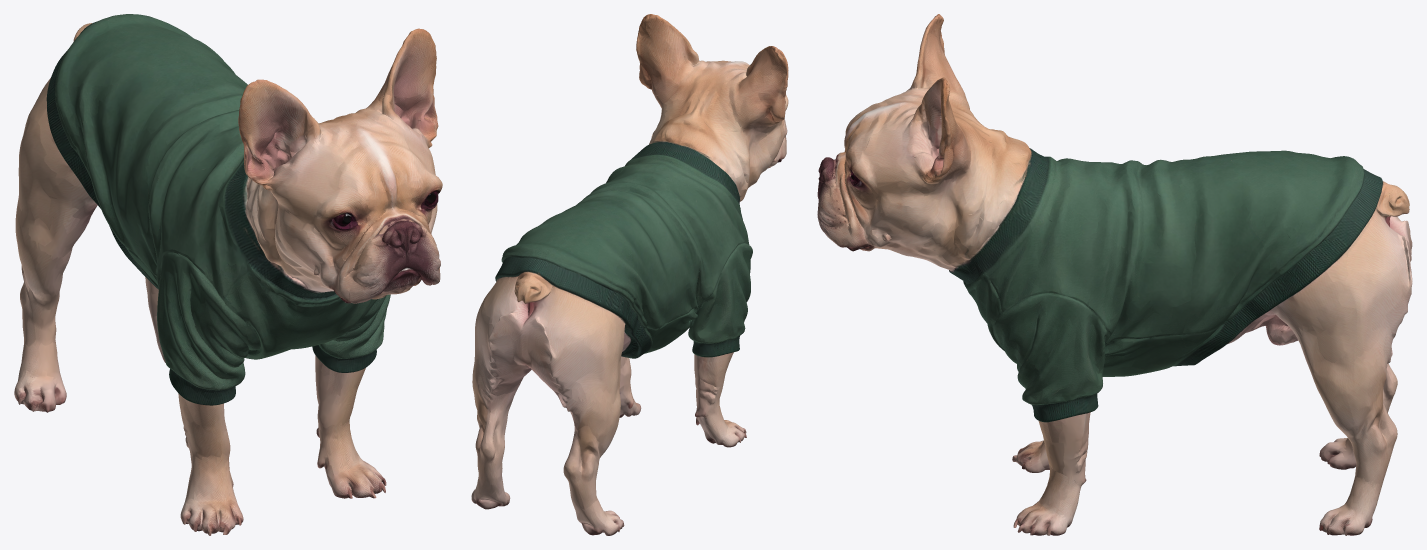
Rendered from zhuangzhuang-standing-green-fleece.glb.
3 renders of one model, left to right at view 1: azimuth 30°, elevation 25°; view 2: azimuth 150°, elevation 25°; view 3: azimuth 270°, elevation 25°, orthographic. The views are drawn at different scales.
Visible parts, largest first — view 1: Mesh_0; view 2: Mesh_0; view 3: Mesh_0.
Part boxes in pixels (x1,y1,x2,y2): Mesh_0: (14, 14, 442, 535); Mesh_0: (471, 14, 788, 535); Mesh_0: (817, 14, 1412, 535).
Size of the model in its own units: 0.1796 by 0.4 by 0.4797.
Materials: 1 (1 with a texture image).
